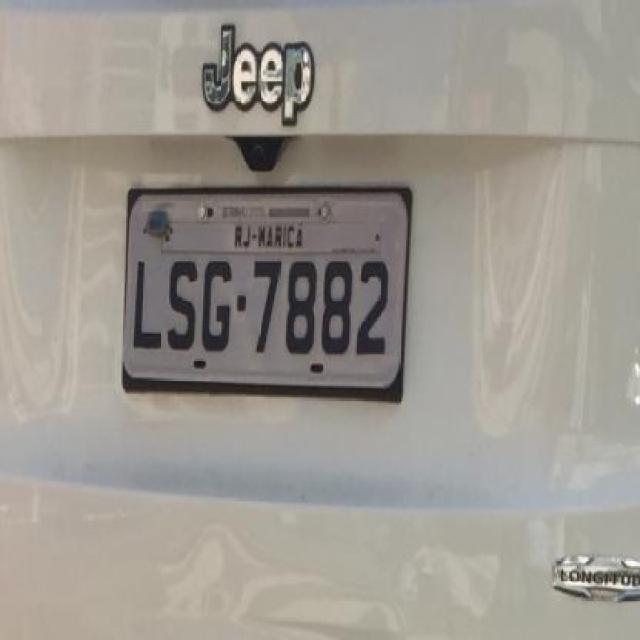old_plate: (116, 181, 415, 399)
